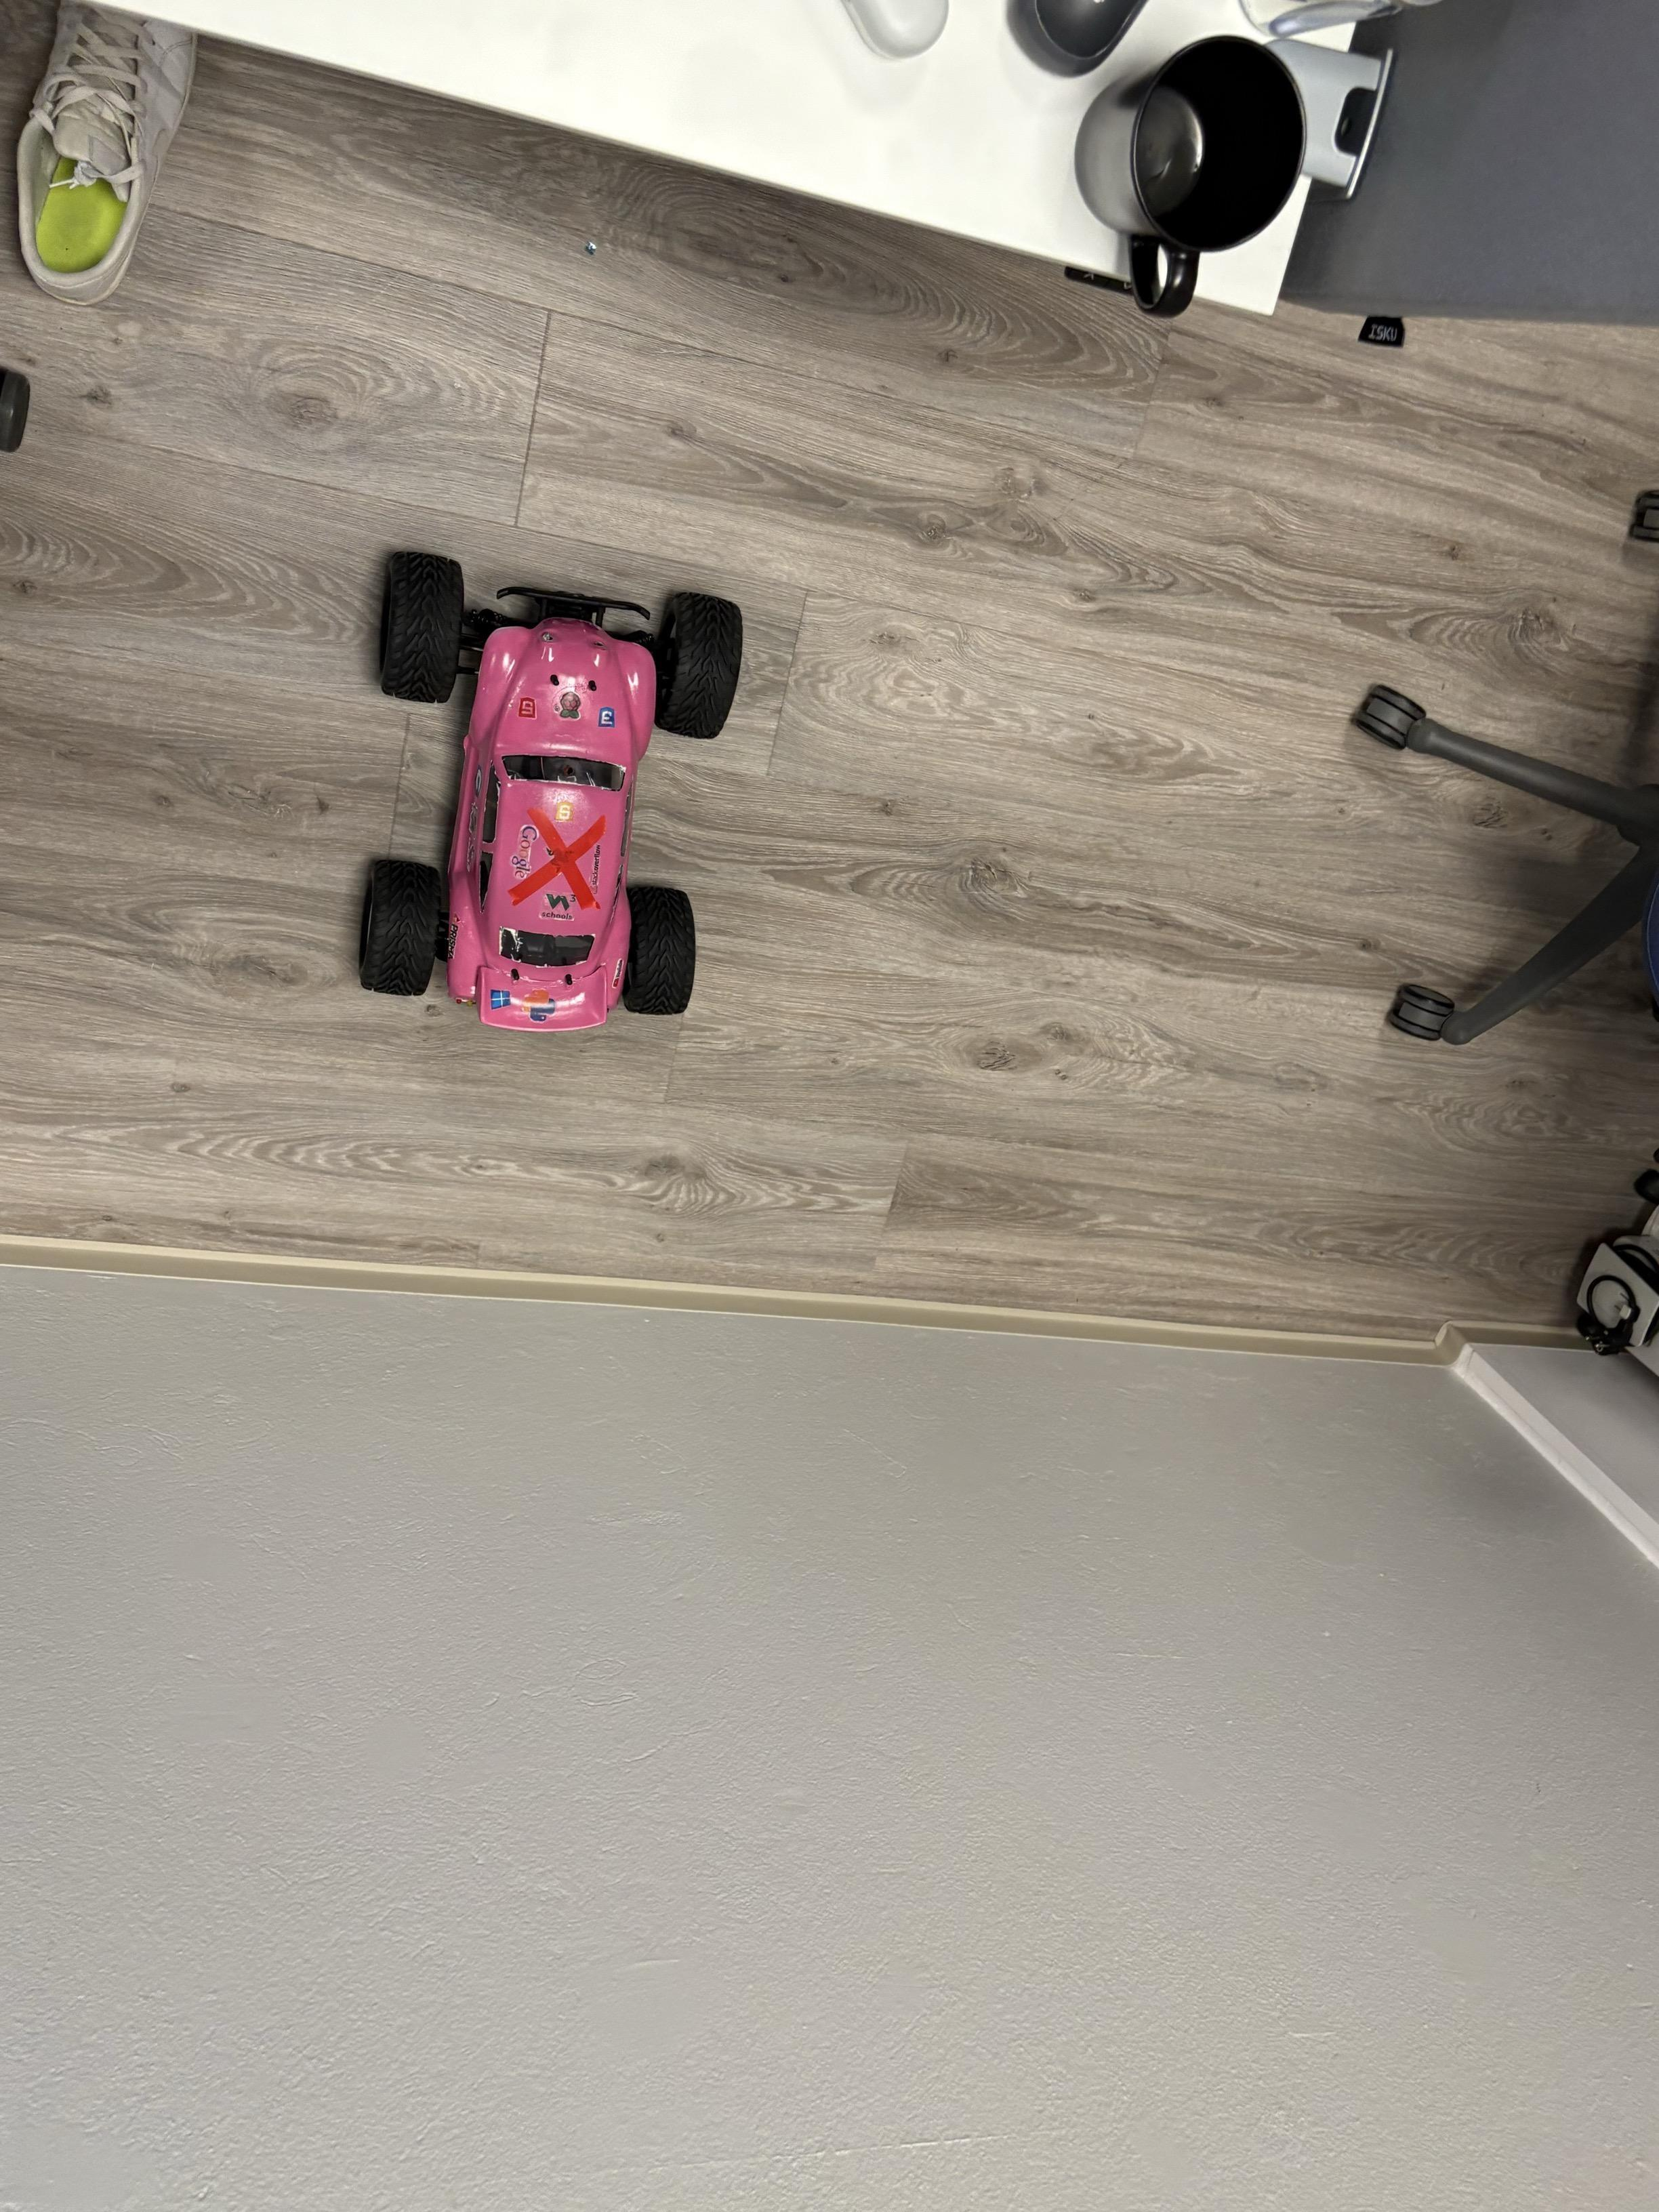Car: (298, 488, 810, 1115)
